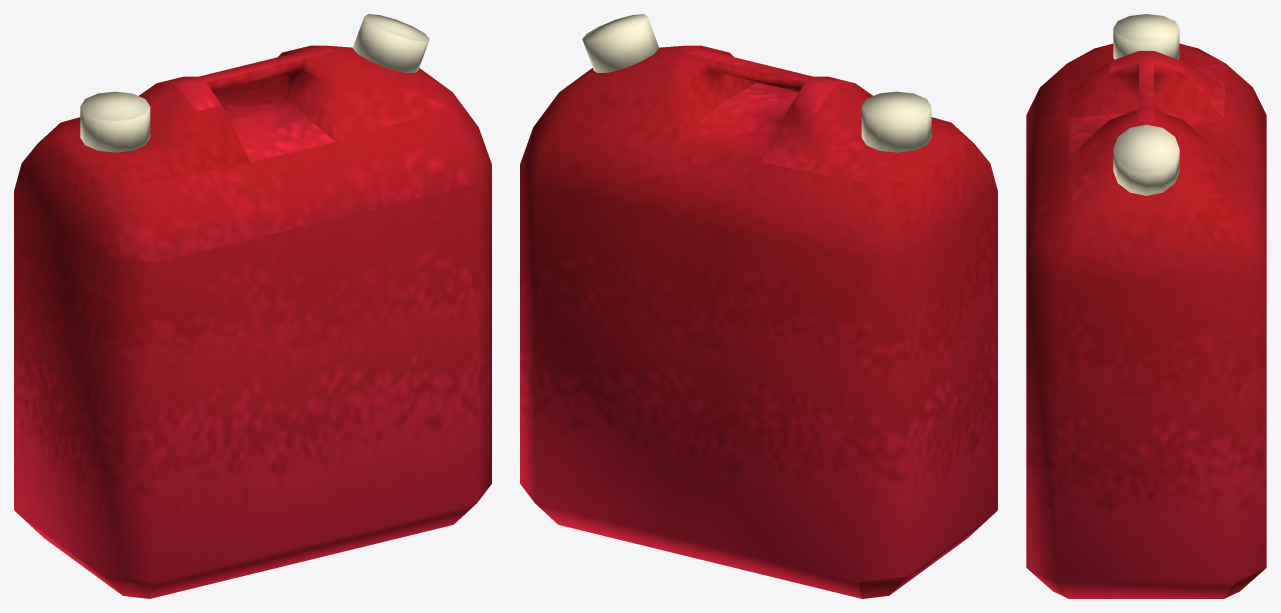
Rendered from Prop_polytank02.fbx.
The picture shows the model from 3 angles, left to right: view 1: azimuth 30°, elevation 25°; view 2: azimuth 150°, elevation 25°; view 3: azimuth 270°, elevation 25°; orthographic projection. The views are drawn at different scales.
Visible parts, largest first — view 1: Prop_polytank02; view 2: Prop_polytank02; view 3: Prop_polytank02.
Boxes of the visible parts, left/top/right/bottom form: Prop_polytank02: left=14, top=14, right=491, bottom=598; Prop_polytank02: left=520, top=14, right=997, bottom=598; Prop_polytank02: left=1026, top=14, right=1266, bottom=598.
Bounding box in the file's own units: 0.334 × 0.393 × 0.19.
